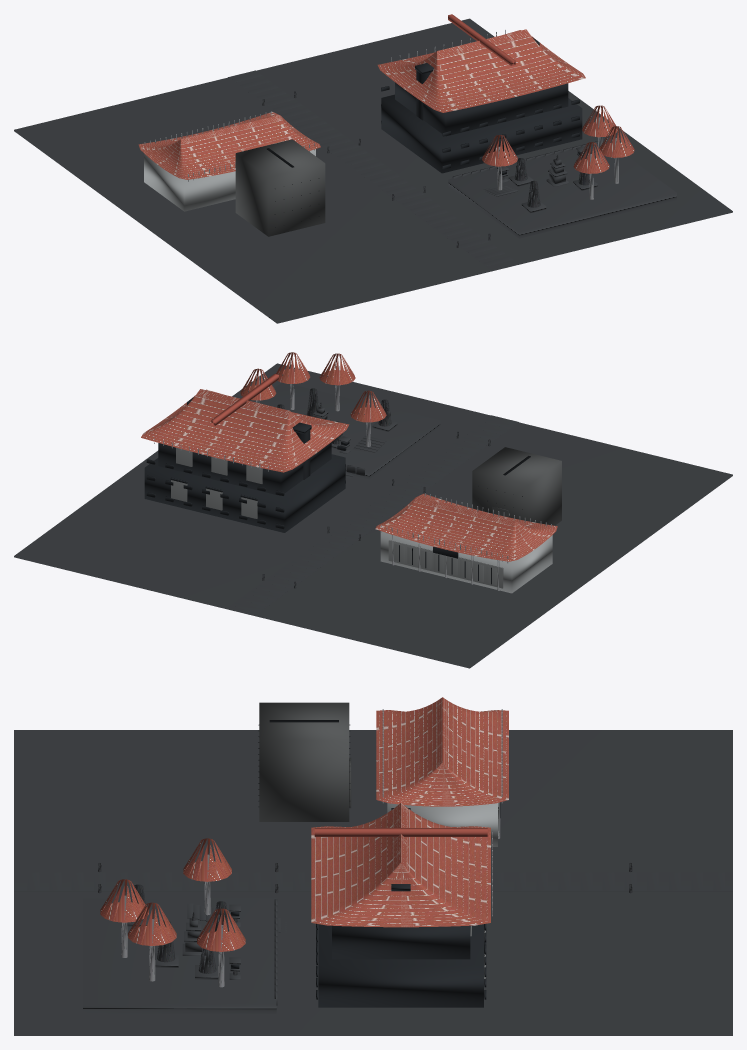
3 views of the same model, one above another, from view 1: azimuth 30°, elevation 25°; view 2: azimuth 150°, elevation 25°; view 3: azimuth 270°, elevation 25° (orthographic). The views are drawn at different scales.
Parts seen in each view (by area): view 1: seochon_heritage_ground, park_nosoo_sculpture_garden, park_nosoo_brick_mansion, park_nosoo_french_roof, leesang_black_iron_cube, leesang_giwa_roof, leesang_hanok_exterior; view 2: seochon_heritage_ground, park_nosoo_brick_mansion, park_nosoo_french_roof, park_nosoo_sculpture_garden, leesang_giwa_roof, leesang_black_iron_cube, leesang_hanok_exterior; view 3: seochon_heritage_ground, park_nosoo_sculpture_garden, park_nosoo_french_roof, park_nosoo_brick_mansion, leesang_giwa_roof, leesang_black_iron_cube, leesang_hanok_exterior.
Boxes of the visible parts, left/top/right/bottom form: seochon_heritage_ground: left=14, top=18, right=732, bottom=323; park_nosoo_sculpture_garden: left=448, top=105, right=676, bottom=238; park_nosoo_brick_mansion: left=381, top=37, right=582, bottom=173; park_nosoo_french_roof: left=377, top=14, right=585, bottom=112; leesang_black_iron_cube: left=235, top=139, right=325, bottom=236; leesang_giwa_roof: left=138, top=111, right=320, bottom=181; leesang_hanok_exterior: left=144, top=149, right=315, bottom=211; seochon_heritage_ground: left=14, top=363, right=732, bottom=668; park_nosoo_brick_mansion: left=144, top=397, right=345, bottom=532; park_nosoo_french_roof: left=141, top=374, right=349, bottom=472; park_nosoo_sculpture_garden: left=240, top=352, right=440, bottom=479; leesang_giwa_roof: left=375, top=493, right=557, bottom=563; leesang_black_iron_cube: left=472, top=447, right=561, bottom=525; leesang_hanok_exterior: left=380, top=531, right=552, bottom=593; seochon_heritage_ground: left=14, top=730, right=732, bottom=1035; park_nosoo_sculpture_garden: left=83, top=838, right=286, bottom=1013; park_nosoo_french_roof: left=311, top=803, right=492, bottom=927; park_nosoo_brick_mansion: left=316, top=808, right=486, bottom=1007; leesang_giwa_roof: left=376, top=697, right=508, bottom=806; leesang_black_iron_cube: left=258, top=702, right=351, bottom=821; leesang_hanok_exterior: left=387, top=802, right=500, bottom=846.
Size of the model in its own units: 52 by 10.65 by 52.
5 materials, 5 textured.
